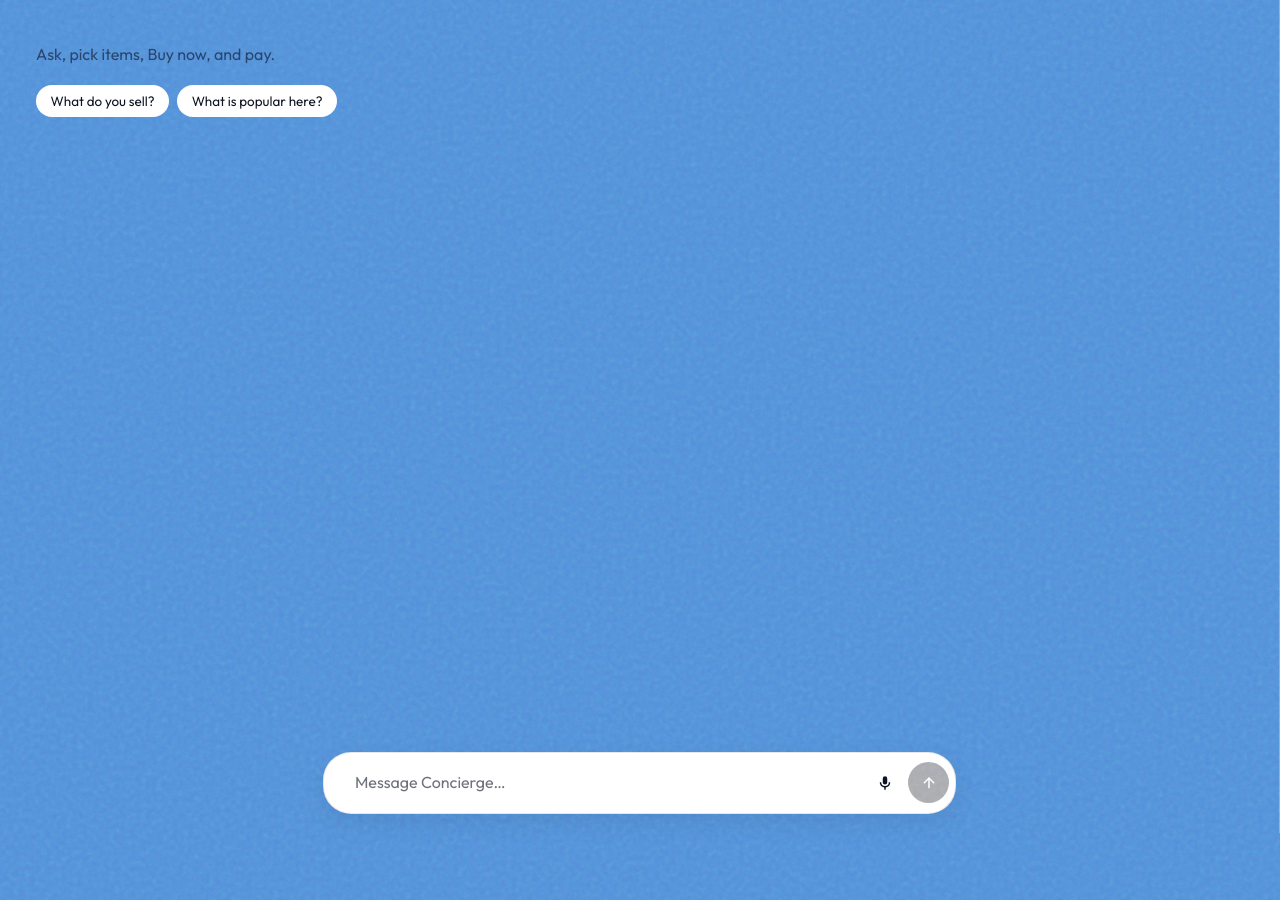
talk voice surface › explains missing voice config in buyer words and leaves the chat usable
Click the button named "Talk" at (885, 783), box x1=865 y1=762 x2=906 y2=803
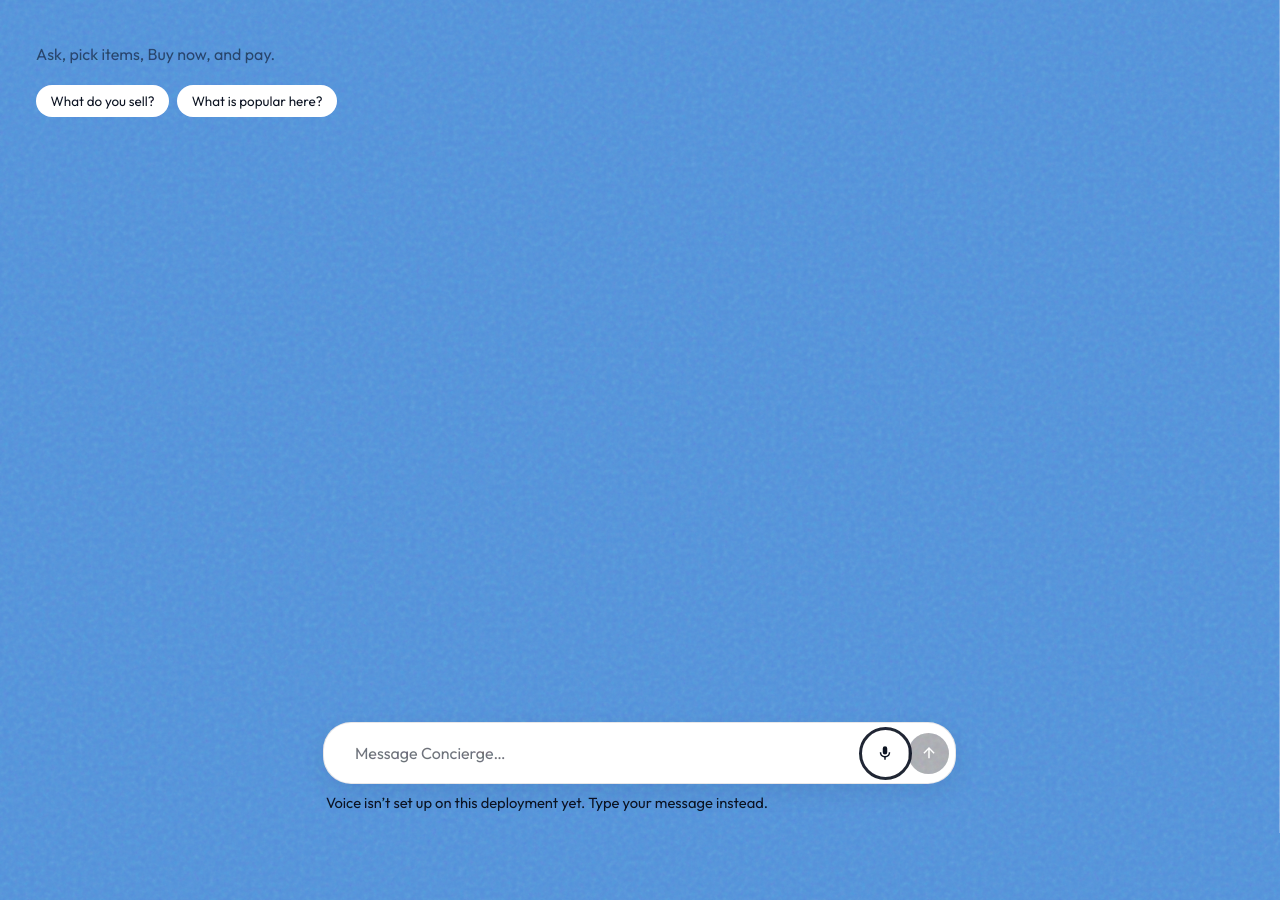
Expected: the message does not show "VOICE_PUBLIC_URL_MISSING", x1=326 y1=793 x2=768 y2=812
Expected: the message reads "Voice isn’t set up on this deployment yet. Type your message instead.", x1=326 y1=793 x2=768 y2=812
